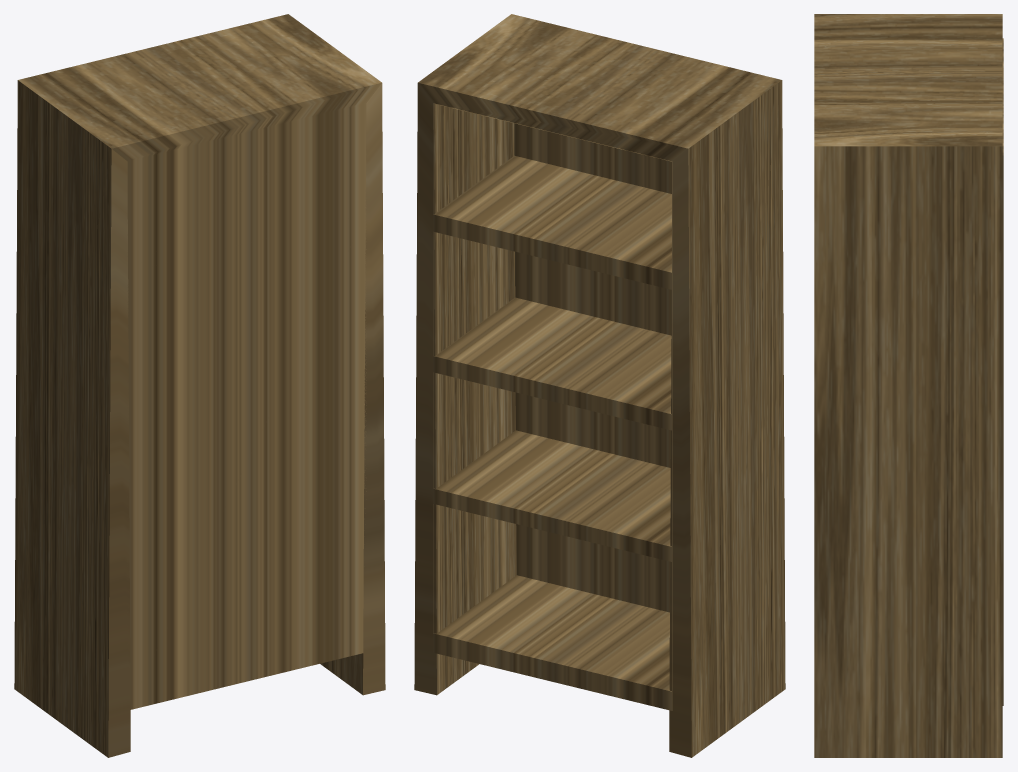
File: Shelf.fbx
The picture shows the model from 3 angles, left to right: view 1: azimuth 30°, elevation 25°; view 2: azimuth 150°, elevation 25°; view 3: azimuth 270°, elevation 25°; orthographic projection.
Visible parts, largest first — view 1: pasted__Shelf; view 2: pasted__Shelf; view 3: pasted__Shelf.
Boxes of the visible parts, x1=… form: pasted__Shelf: x1=14, y1=14, x2=385, y2=757; pasted__Shelf: x1=414, y1=14, x2=785, y2=757; pasted__Shelf: x1=814, y1=14, x2=1003, y2=757.
Size of the model in its own units: 3.48 by 7.3 by 2.05.
